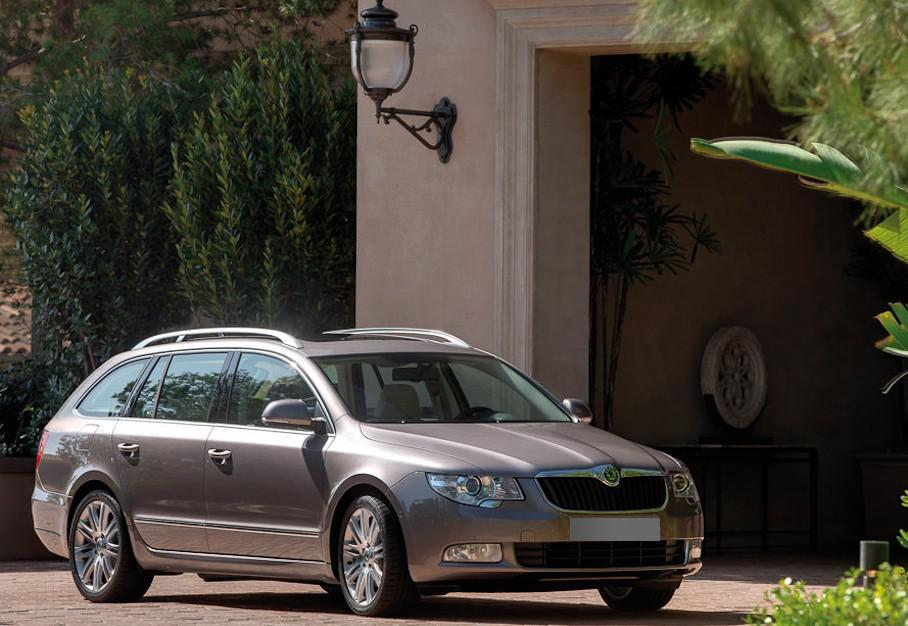Wagon: (32, 326, 705, 617)
